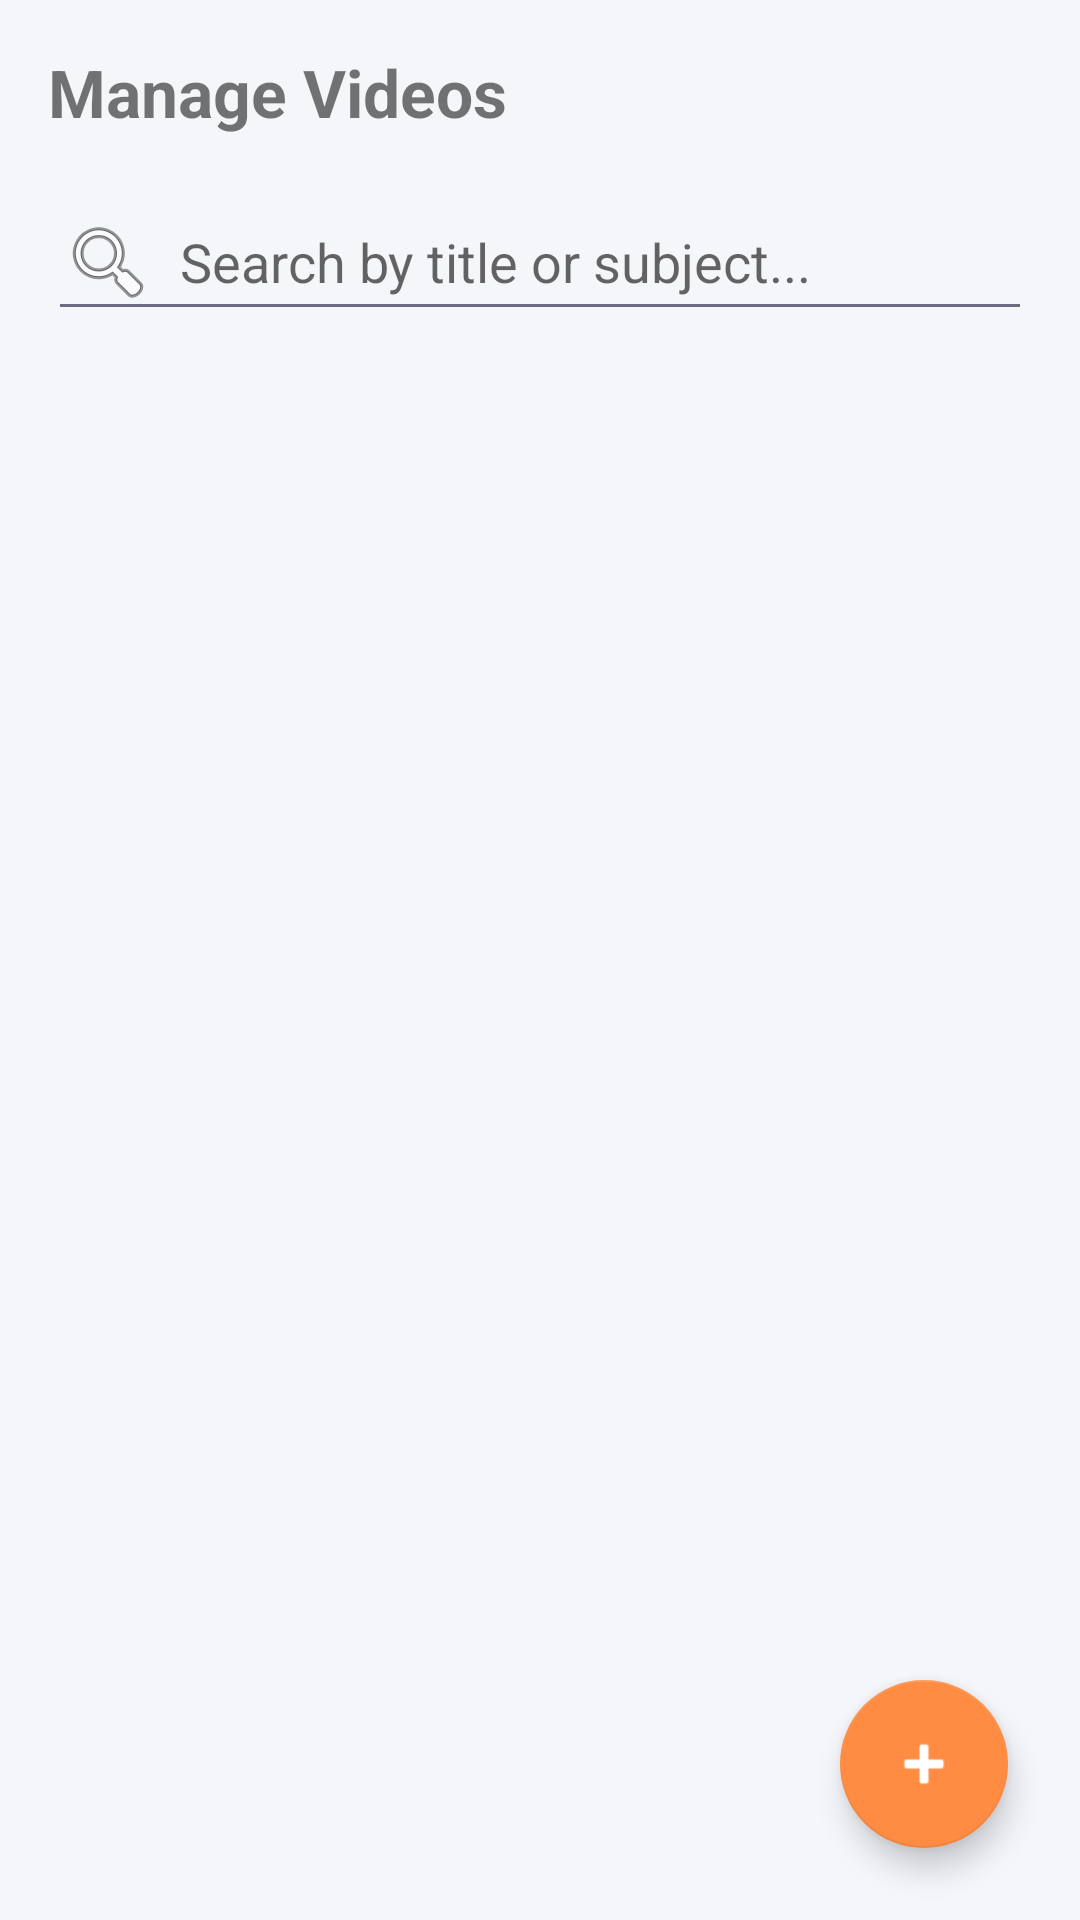

Icon bounding boxes for this 1080px x 1920px phone screenshot, format [x1,y1,x2,y2]:
Add Video: [840,1680,1008,1848]
